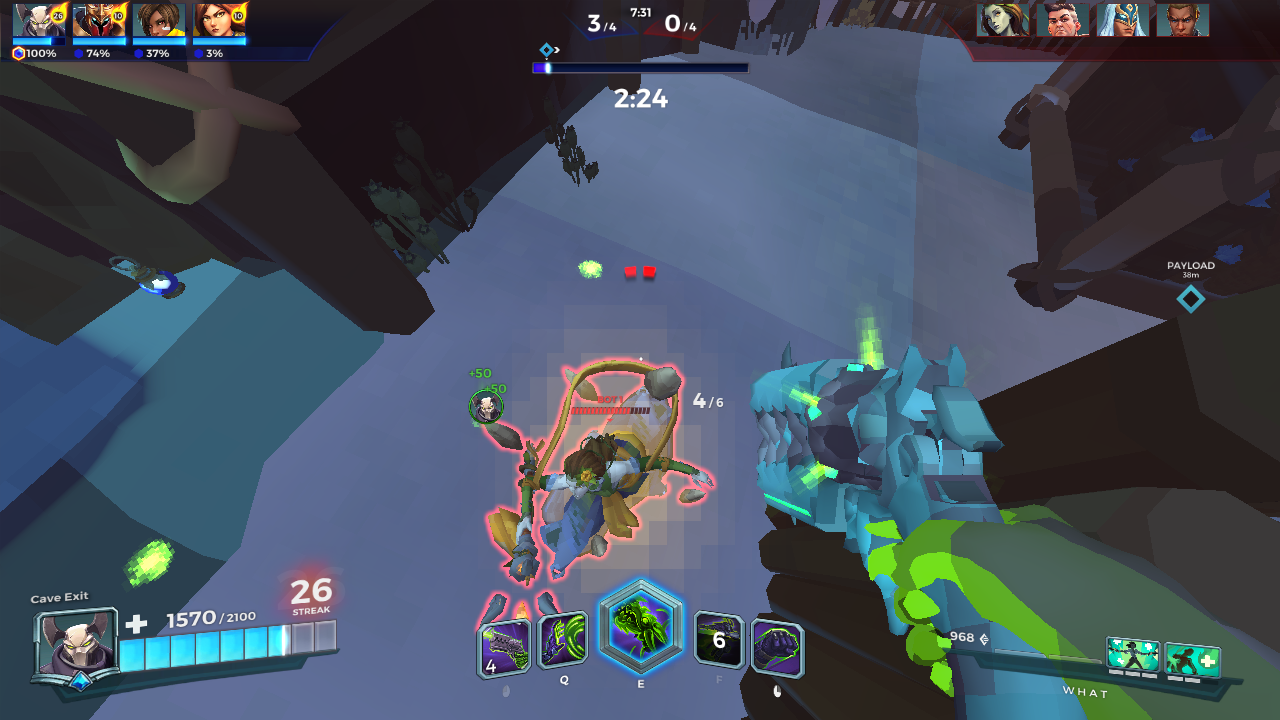model: (495, 352, 708, 575)
